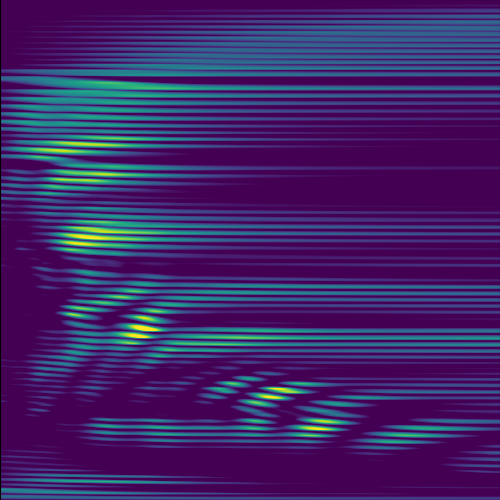semblance: (24, 127, 121, 162), (59, 218, 160, 249), (118, 311, 167, 351), (51, 164, 132, 188), (301, 413, 348, 434), (261, 382, 300, 407), (105, 288, 148, 301), (222, 376, 244, 389)
